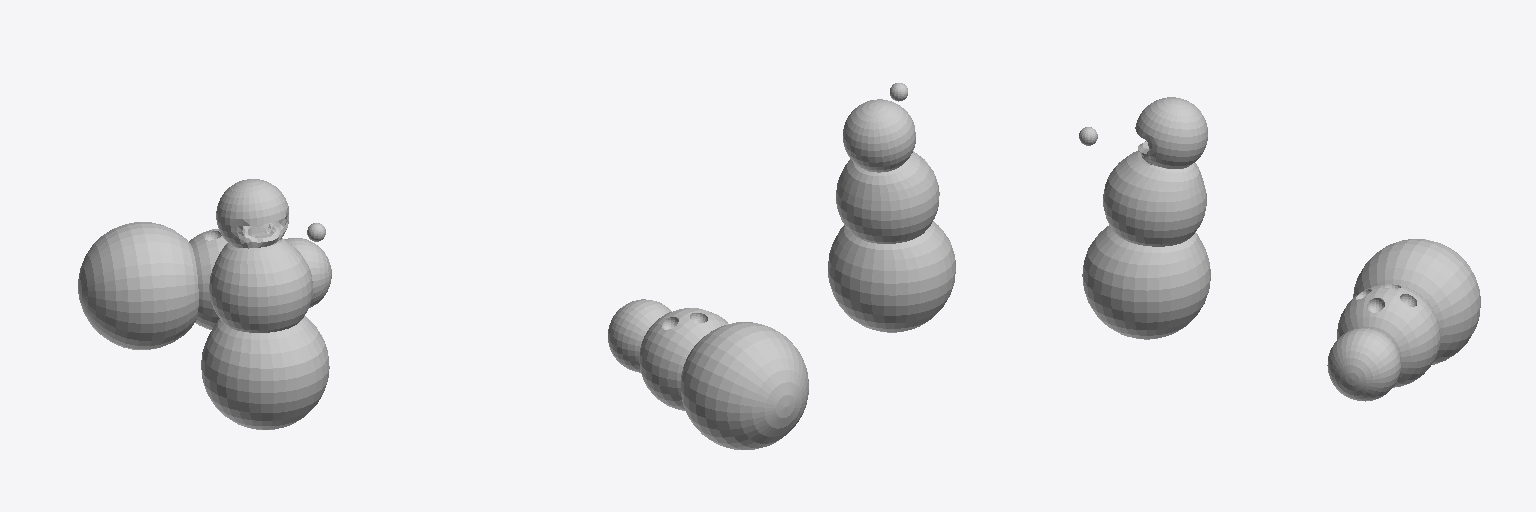
File: morbid.obj
3 views of the same model, side by side, from view 1: azimuth 30°, elevation 25°; view 2: azimuth 150°, elevation 25°; view 3: azimuth 270°, elevation 25° (orthographic).
Parts seen in each view (by area): view 1: Sphere.008_Sphere.003; view 2: Sphere.008_Sphere.003; view 3: Sphere.008_Sphere.003.
Boxes of the visible parts, x1=… form: Sphere.008_Sphere.003: x1=78, y1=179, x2=331, y2=429; Sphere.008_Sphere.003: x1=608, y1=83, x2=955, y2=449; Sphere.008_Sphere.003: x1=1079, y1=97, x2=1480, y2=401.
Bounding box in the file's own units: 1.58 × 1.7 × 2.43.